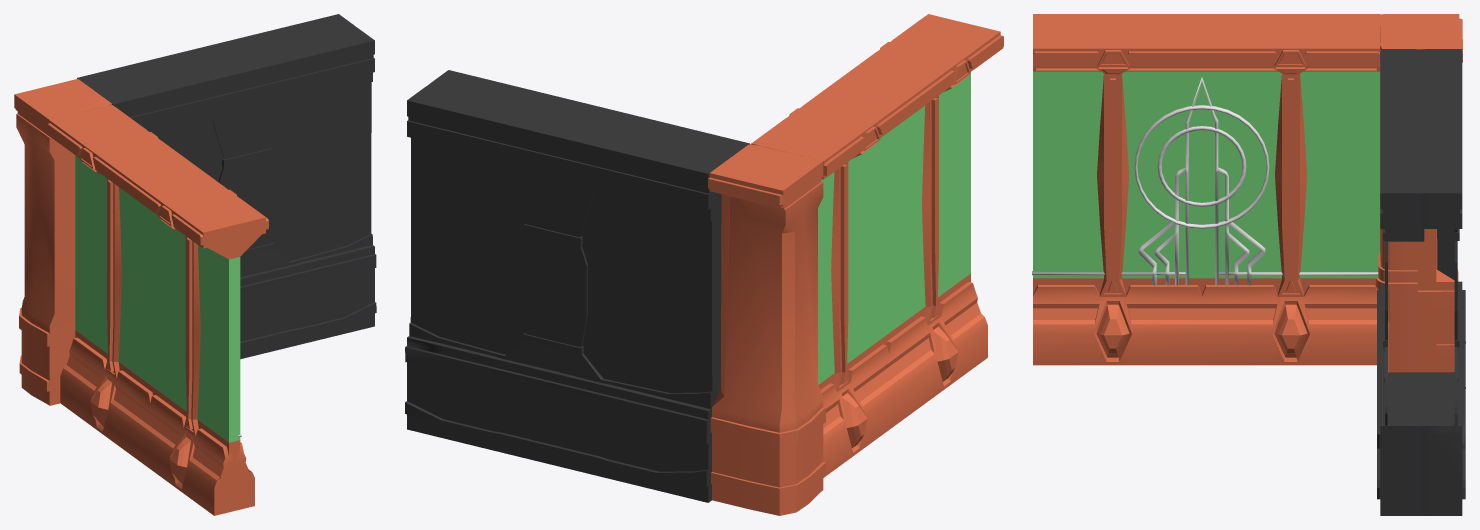
Rendered from AngleFenetre_Mur.fbx.
3 renders of one model, left to right at view 1: azimuth 30°, elevation 25°; view 2: azimuth 150°, elevation 25°; view 3: azimuth 270°, elevation 25°, orthographic. The views are drawn at different scales.
Visible parts, largest first — view 1: Mur_Vitrée.003, Mur_Plein.003, Angel_MurFenetre.001; view 2: Mur_Plein.003, Mur_Vitrée.003, Angel_MurFenetre.001; view 3: Mur_Vitrée.003, Mur_Plein.003, Angel_MurFenetre.001.
Boxes of the visible parts, box(x1,y1,x2,y2) form: Mur_Vitrée.003: box(46, 105, 268, 515); Mur_Plein.003: box(77, 14, 376, 359); Angel_MurFenetre.001: box(14, 79, 111, 405); Mur_Plein.003: box(405, 70, 749, 502); Mur_Vitrée.003: box(750, 14, 1003, 477); Angel_MurFenetre.001: box(708, 144, 825, 515); Mur_Vitrée.003: box(1032, 14, 1379, 365); Mur_Plein.003: box(1377, 49, 1465, 515); Angel_MurFenetre.001: box(1376, 14, 1462, 372).
Size of the model in its own units: 242 by 200 by 244.
